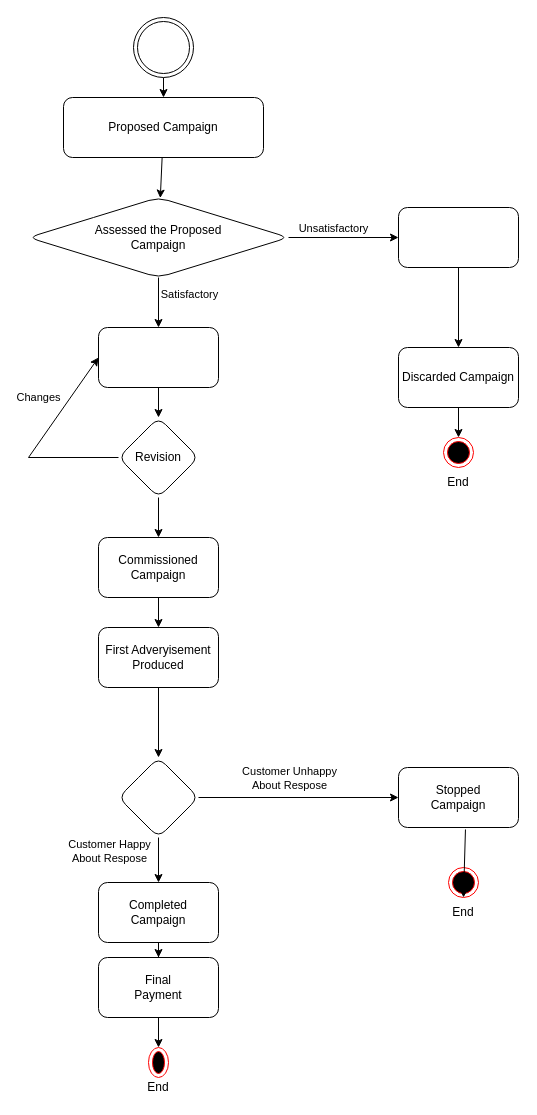
Some shapes in this 537 by 1115 pixel diagram are drawn without their labels. The centre of each missing label's shape, as x and y in pixels:
Advised Against: the point at 458,237
Recommended Campaign: the point at 158,357
Start: the point at 163,47
Underway Campaign: the point at 158,797
